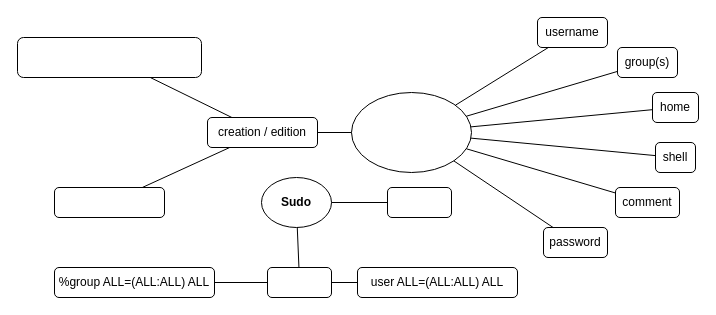
The diagram is 716 pixels wide and 315 high, and some of its shapes have lost their labels. The shapes that lost their labels are listed below. From the top down, each one's centre as x and y in pixels, then its label:
At point 109,57: "useradd/adduser (useradd has a better manpage)".
At point 411,132: "Users".
At point 109,202: "passwd".
At point 419,202: "visudo".
At point 299,282: "sudoers".
